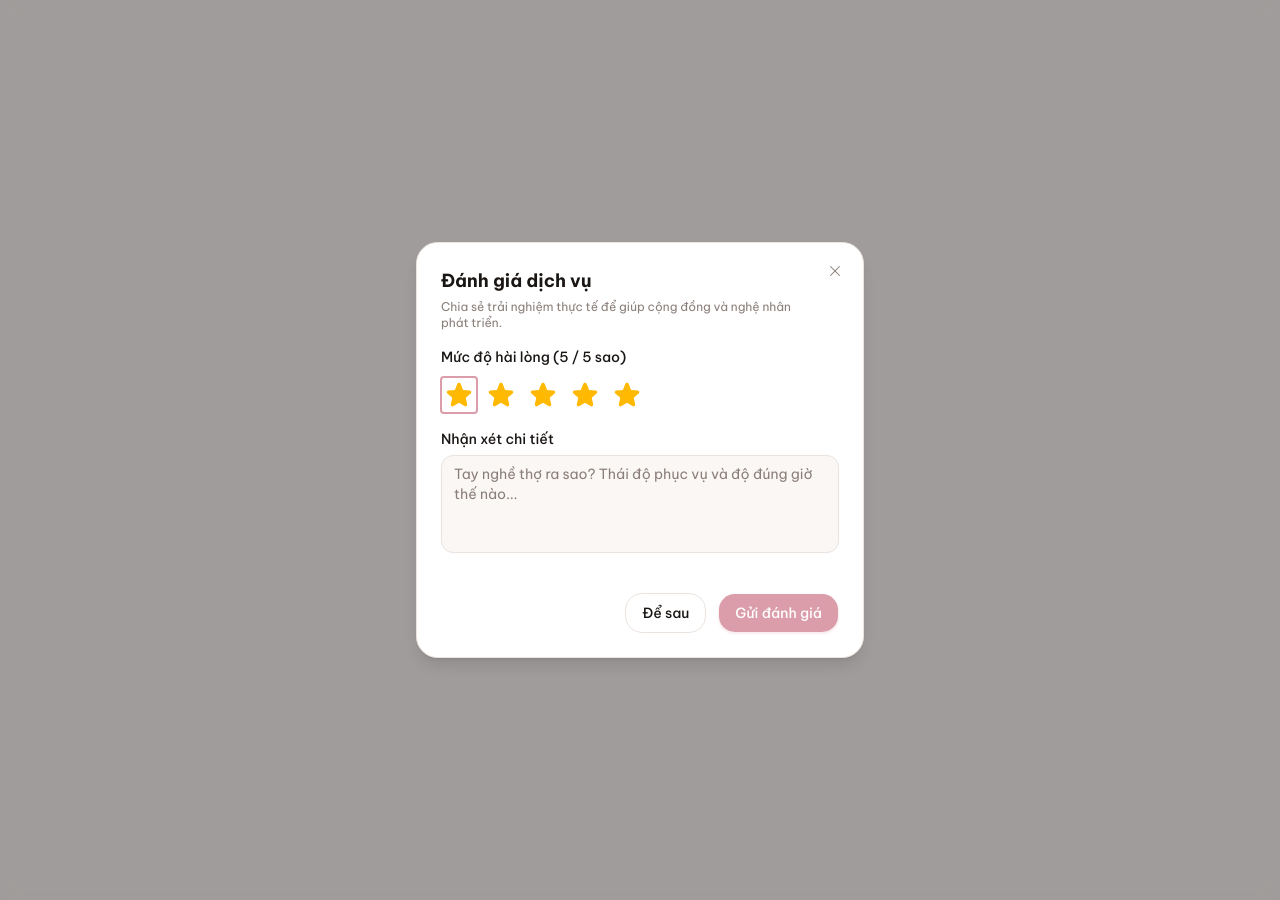
CreateReviewModal Component › updates comment text and allows star selection
Type "Thợ makeup rất có tâm, đúng giờ và nhiệt tình!" into the text box with placeholder "Tay nghề thợ ra sao" at (640, 504), box [441, 455, 839, 553]
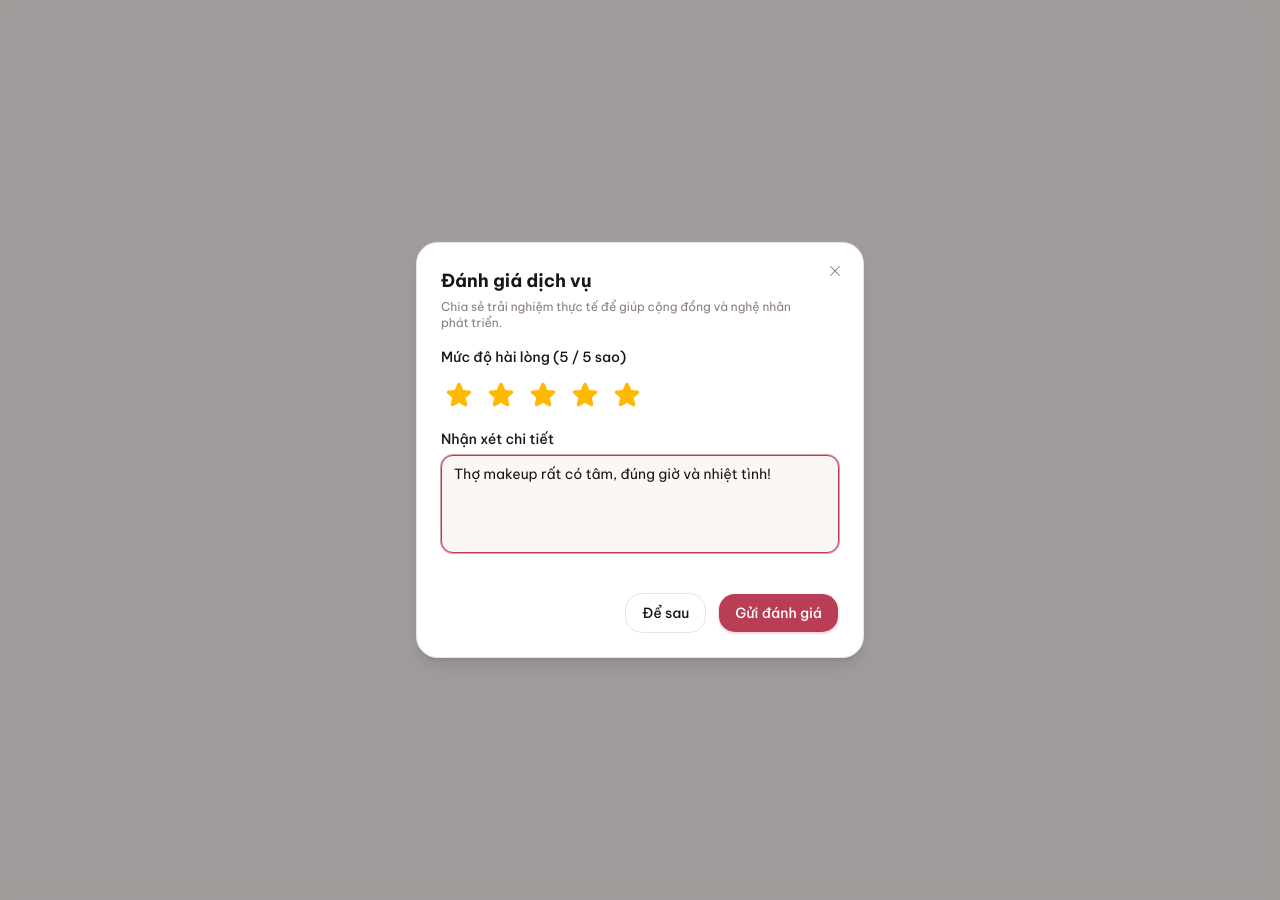
// Click 4 stars
Click the button named "4 sao" at (585, 395), box [567, 377, 603, 413]
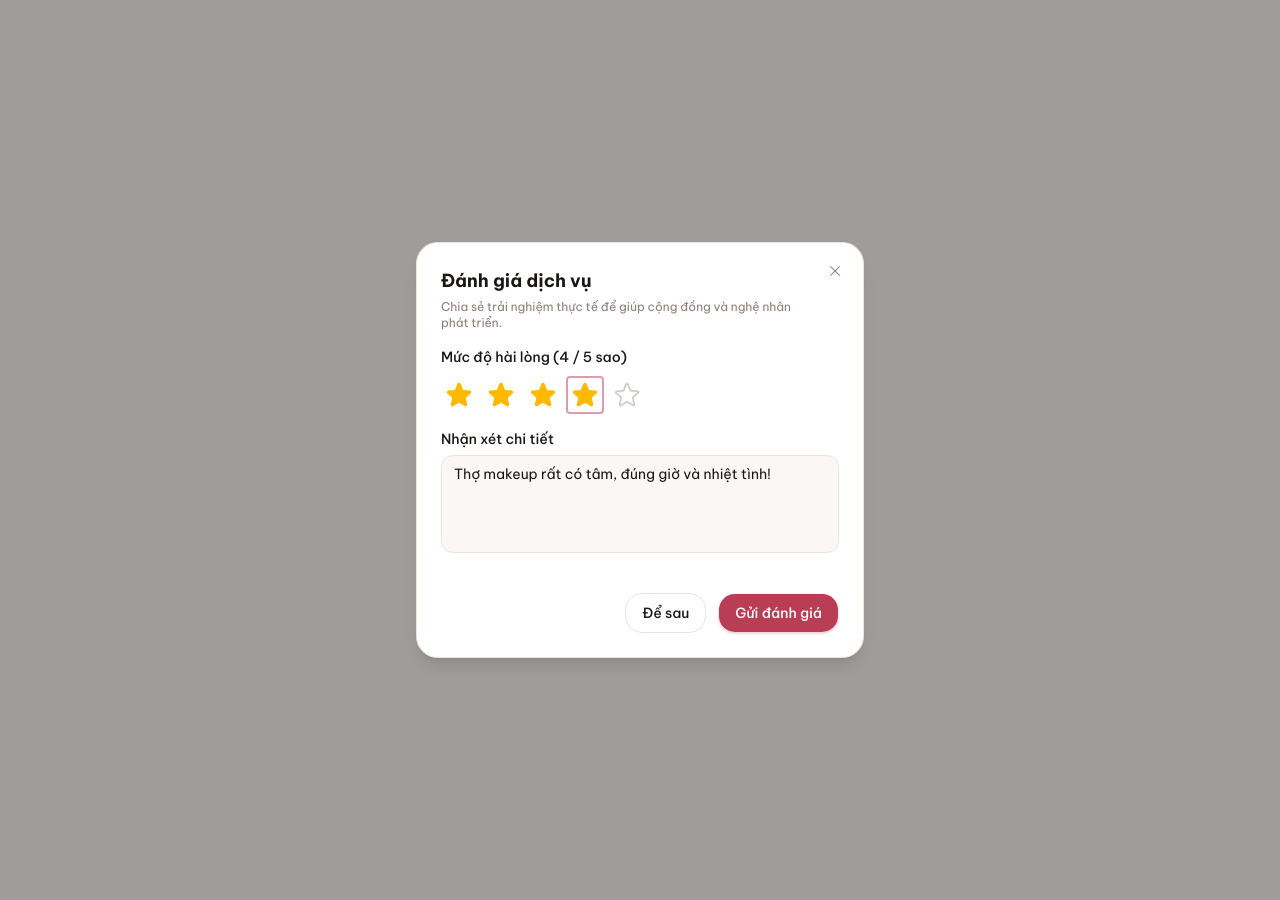
Now the text "Mức độ hài lòng (4 / 5 sao)" is shown, box [441, 348, 627, 366]
